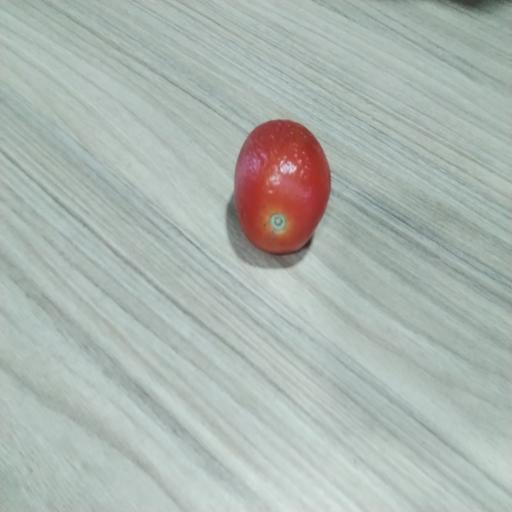spoiled: (234, 120, 331, 254)
